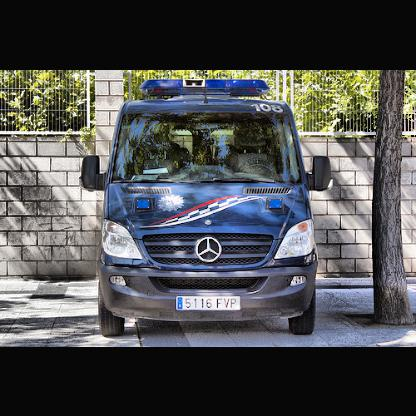Mercedes-Benz Sprinter Van 2012: (81, 76, 334, 342)
